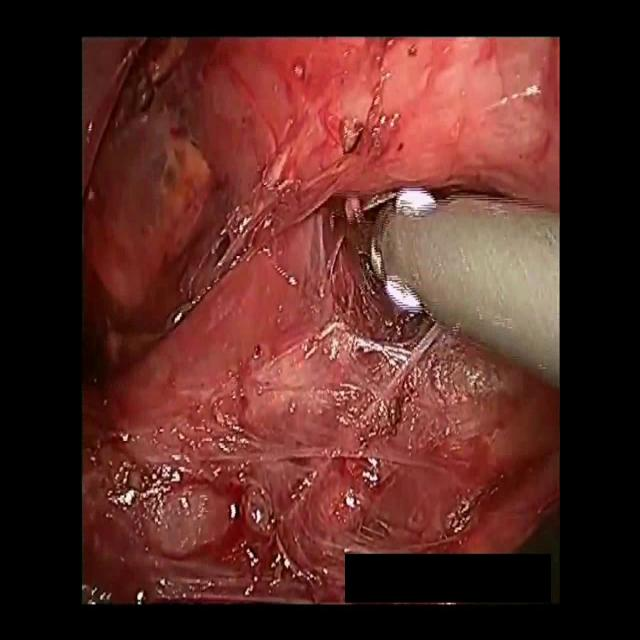surgical-area: (80, 38, 560, 611)
surgical-tool: (342, 188, 563, 393)
